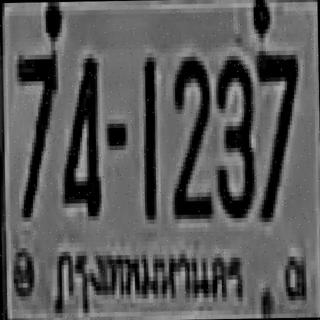N01: (140, 55, 156, 218)
N02: (170, 52, 210, 215)
N03: (213, 51, 252, 214)
N04: (60, 54, 99, 217)
N07: (254, 51, 298, 218), (14, 50, 58, 213)
P04: (51, 242, 250, 312)
